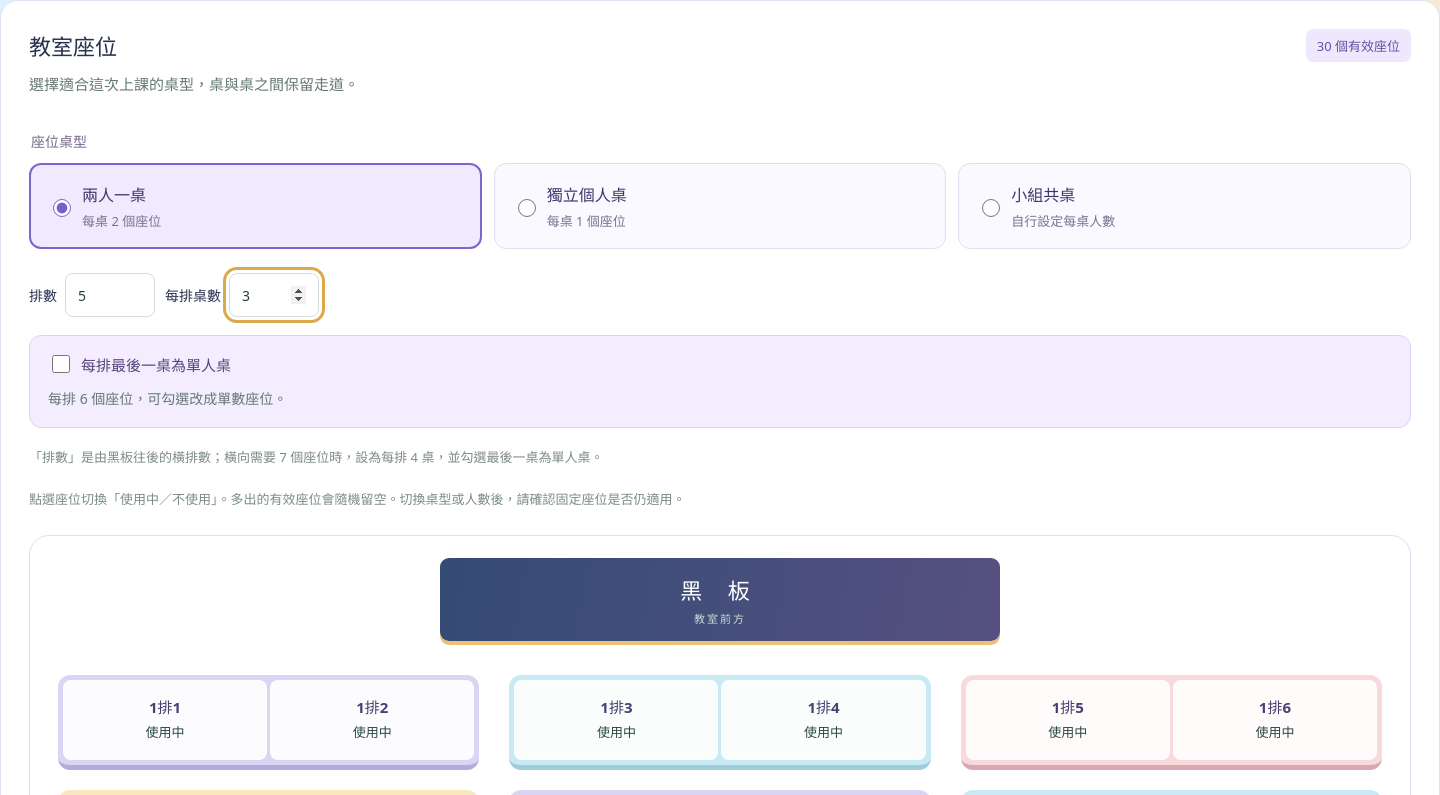
教室座位數字輸入 › Enter完成輸入，桌數超出範圍不修改配置
Replace the text in the number field labelled "每排桌數" with "9" at (274, 295), box x1=229 y1=273 x2=319 y2=317
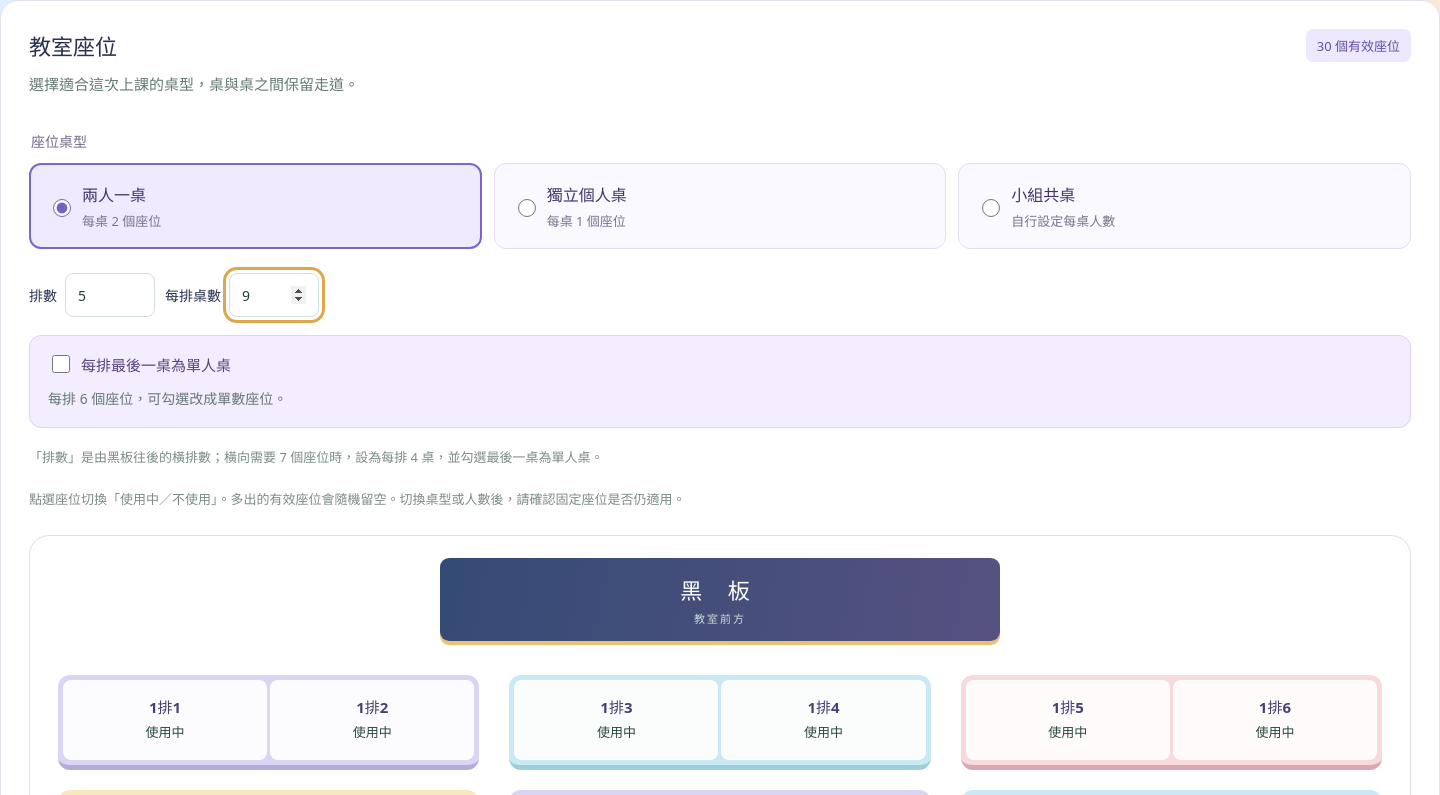
Press Enter in the number field labelled "每排桌數", box x1=229 y1=273 x2=319 y2=317
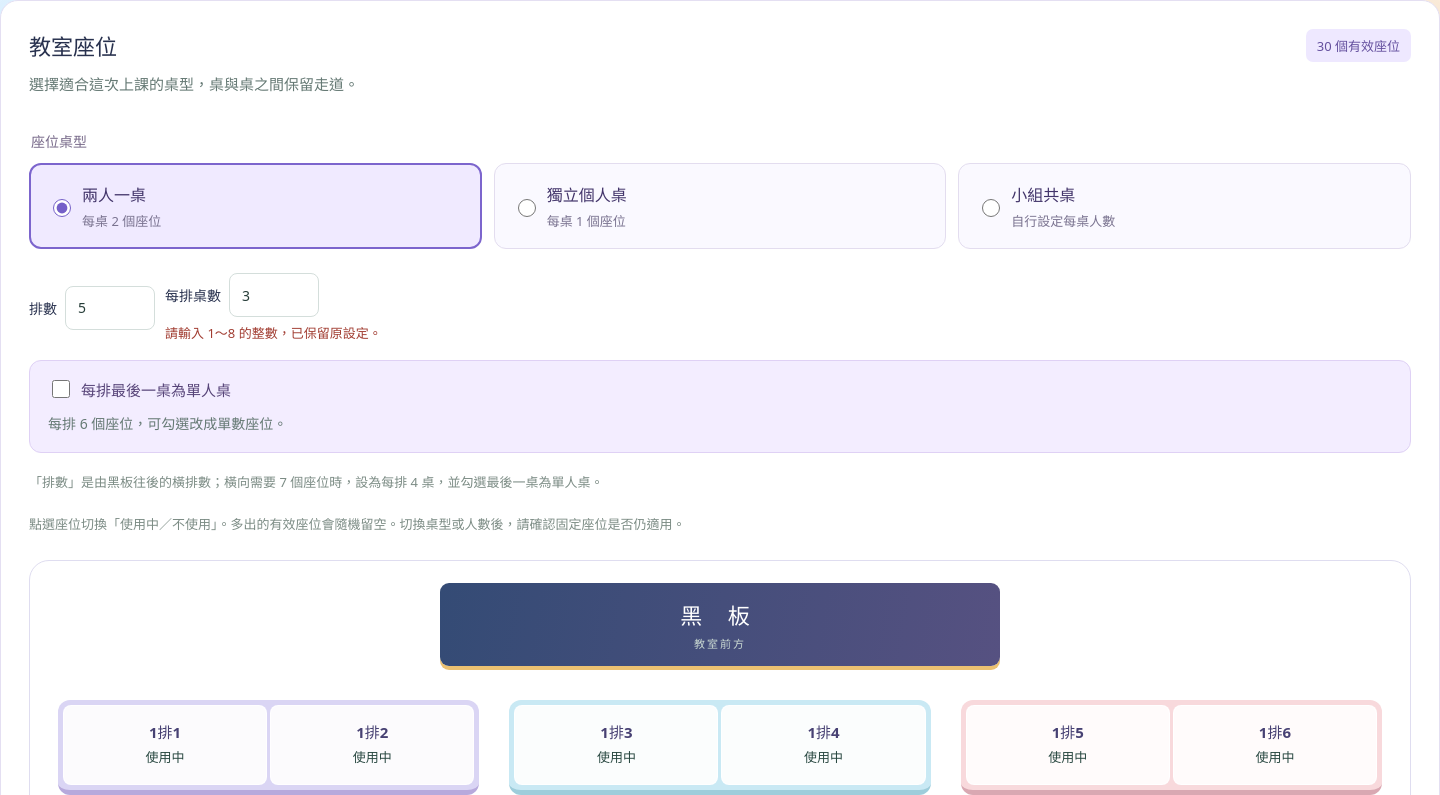
Expected: the text "30 個有效座位" is shown, x1=1306 y1=29 x2=1411 y2=62
Now the number field labelled "每排桌數" holds "3", box x1=229 y1=273 x2=319 y2=317
